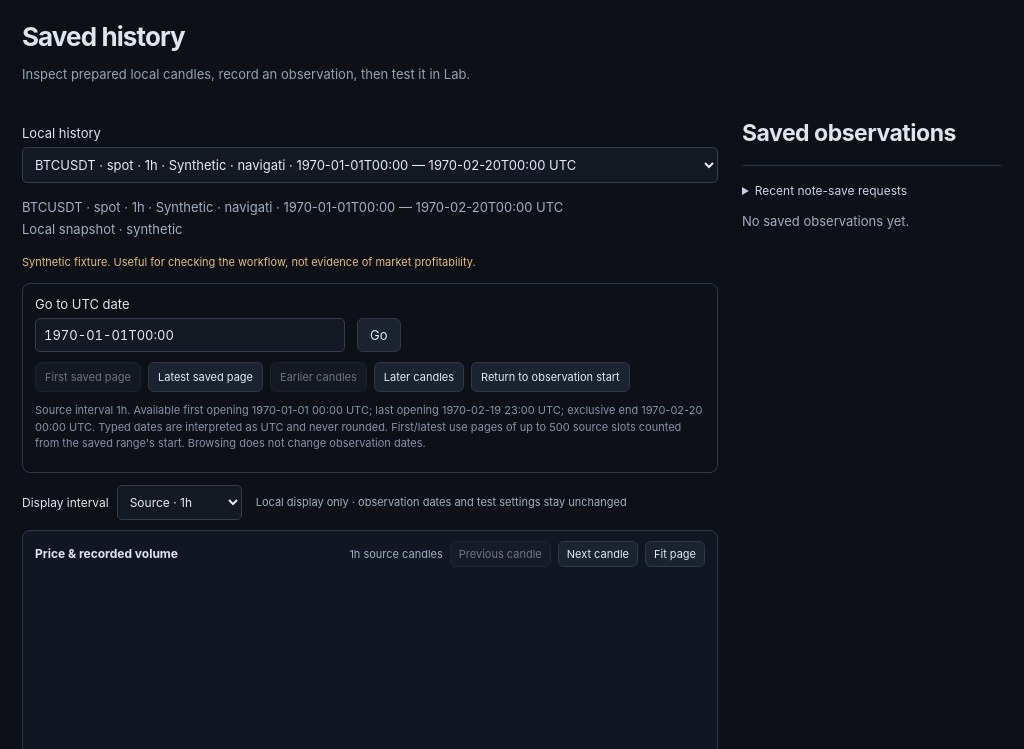
Test: records only the genuinely visible replacement page after exact navigation and explicit failure recovery
Step 1. Replace the text in the field labelled "Go to UTC date" with "1970-01-01T01:00" → (190, 335), box [35,318,345,352]
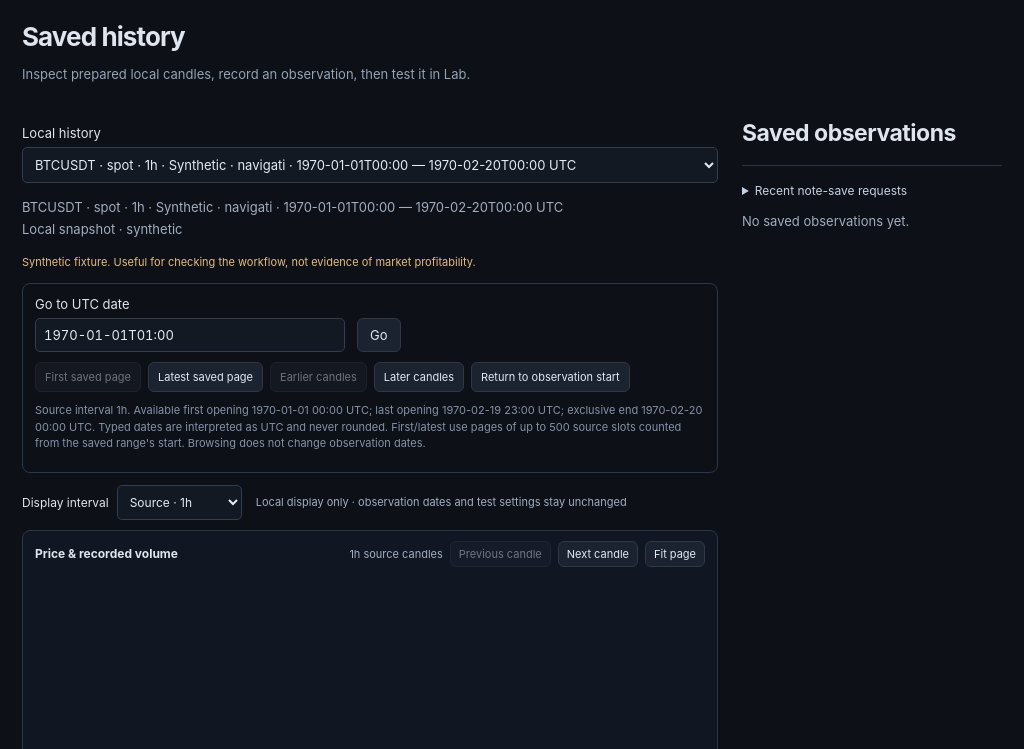
Step 2. Submit the form labelled "Go to UTC date", box [35,296,400,352]
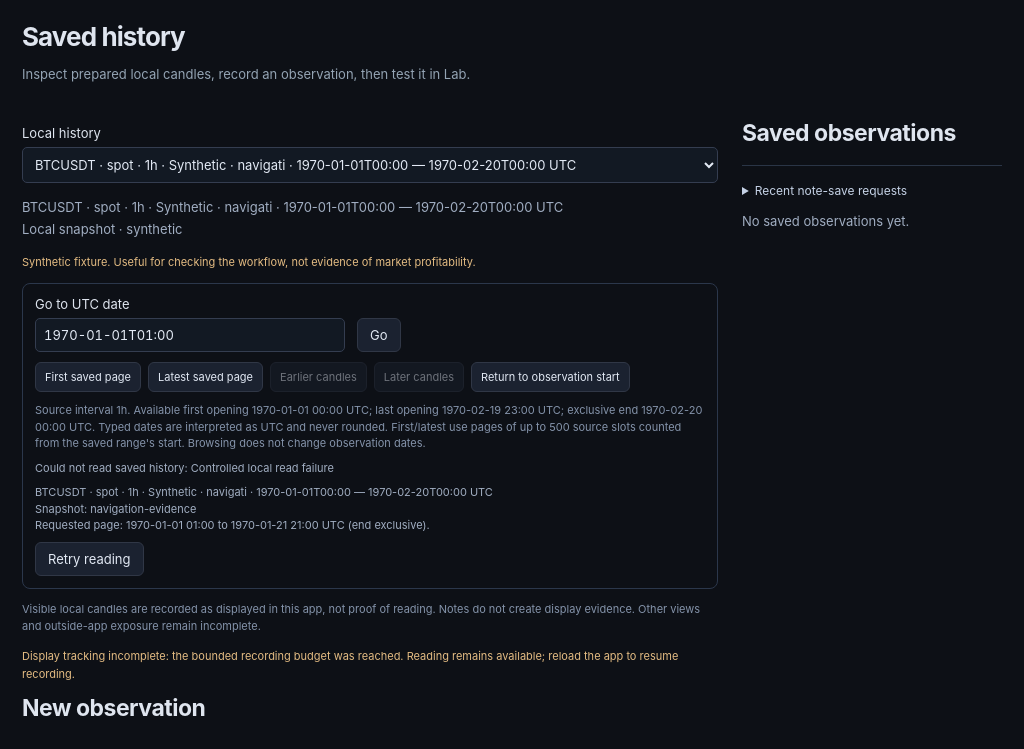
Step 3. Replace the text in the field labelled "Go to UTC date" with "invalid pending text" → (190, 335), box [35,318,345,352]
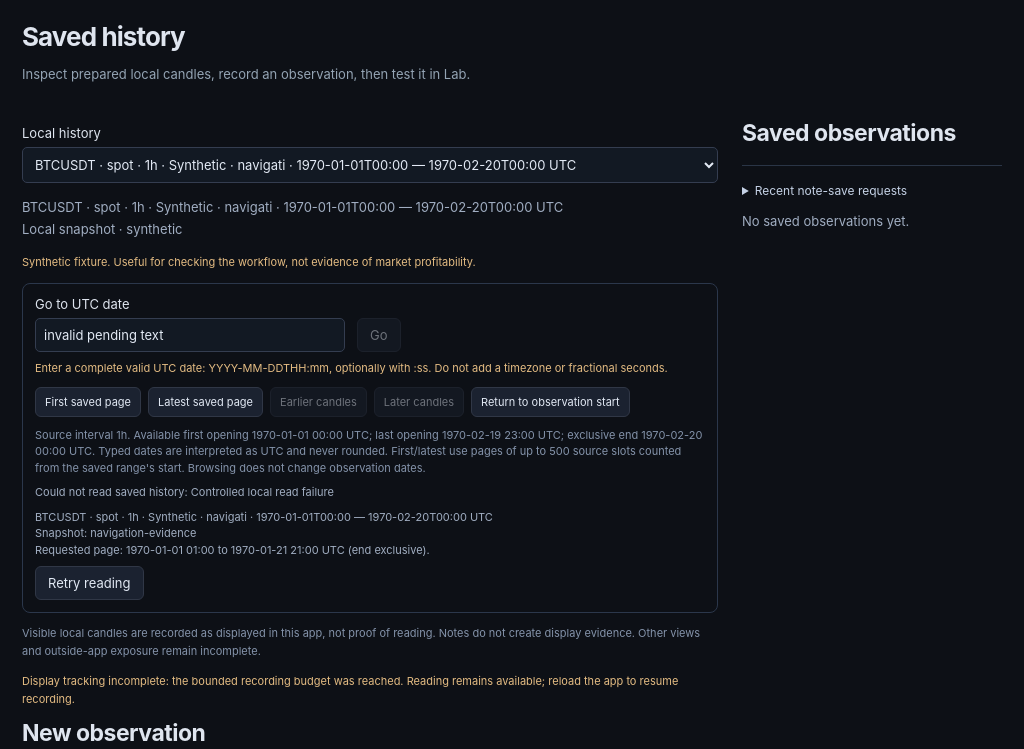
Step 4. Click the button "Retry reading" → click(89, 583), box [35,566,144,600]
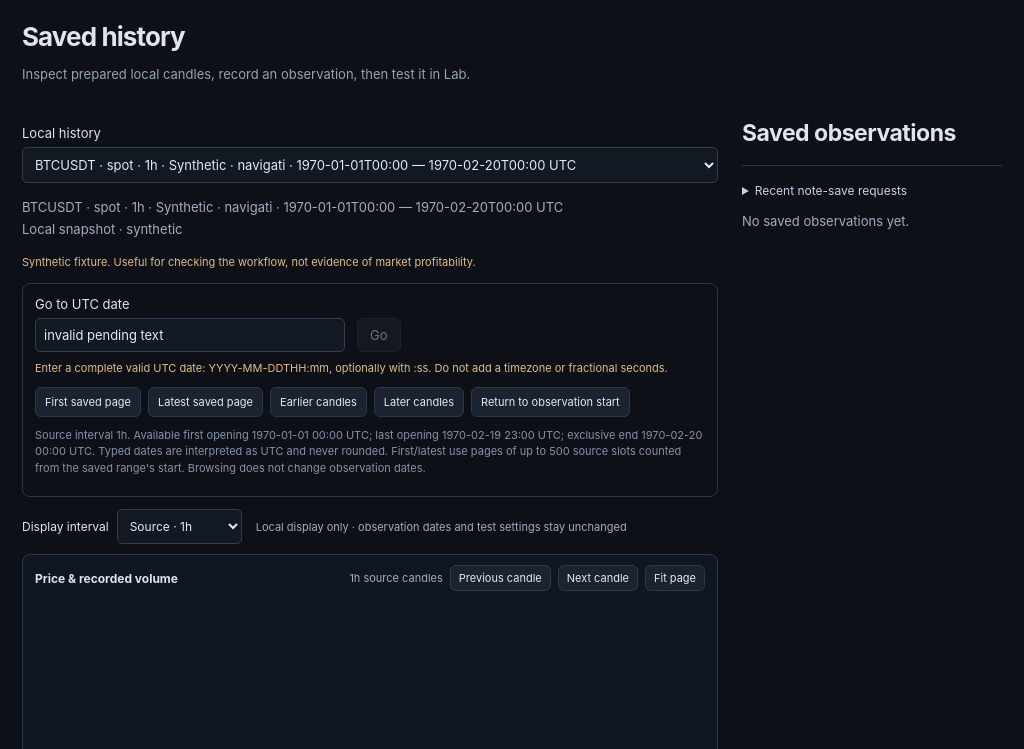
Step 5. Select "4h" in the dropdown named "Saved-history display interval" → (179, 527), box [117,509,242,544]
(page scrolled)
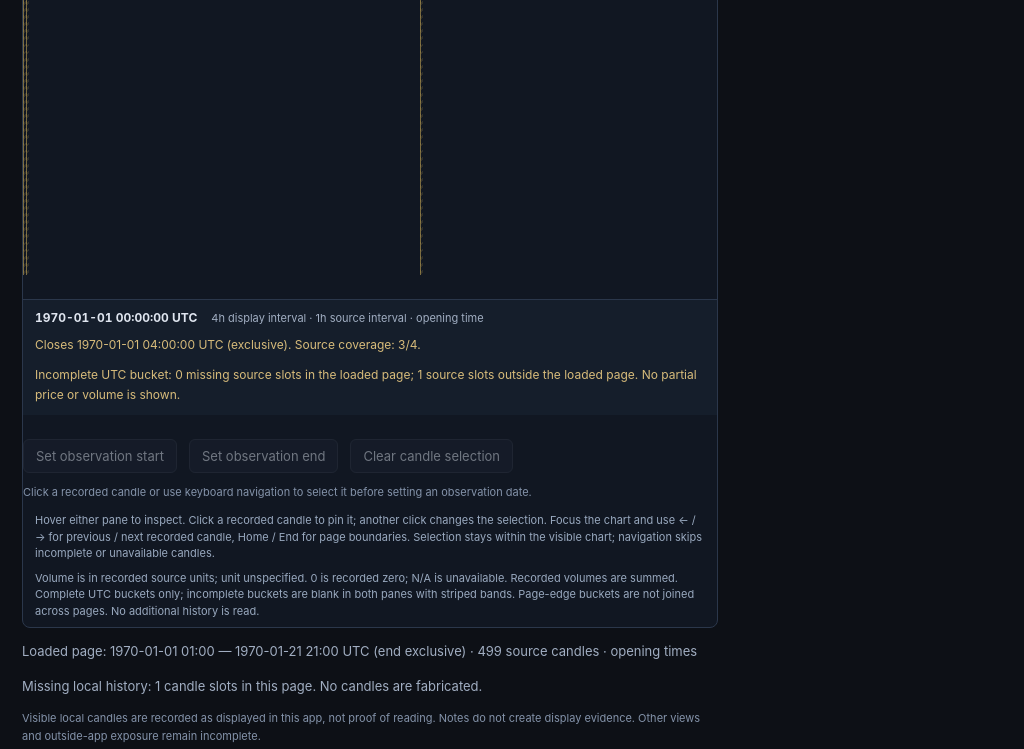
Expected: the text "0 missing source slots in the loaded page; 1 source slots outside" is shown, [35,365,705,405]
